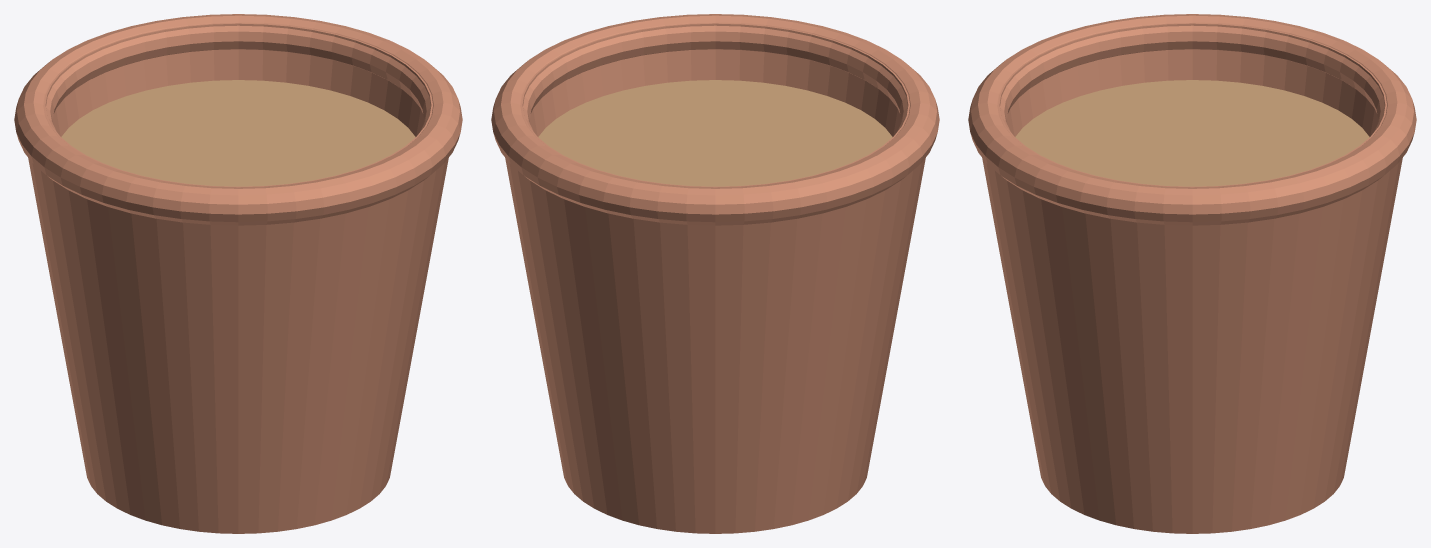
Rendered from terracotta-planter.glb.
3 renders of one model, left to right at view 1: azimuth 30°, elevation 25°; view 2: azimuth 150°, elevation 25°; view 3: azimuth 270°, elevation 25°, orthographic.
Visible parts, largest first — view 1: terracotta-planter; view 2: terracotta-planter; view 3: terracotta-planter.
Part boxes in pixels (x1,y1,x2,y2): terracotta-planter: [14, 14, 462, 533]; terracotta-planter: [491, 14, 939, 533]; terracotta-planter: [968, 14, 1416, 533].
Bounding box in the file's own units: 0.558 × 0.504 × 0.558.
